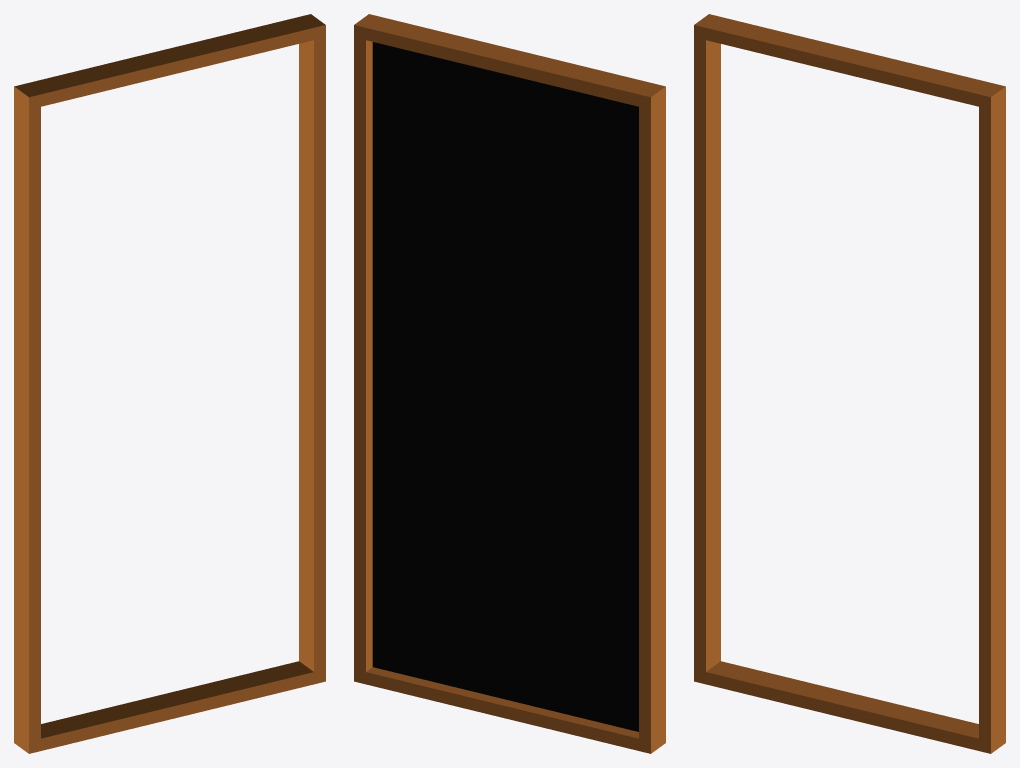
Rendered from Window 5.fbx.
3 views of the same model, side by side, from view 1: azimuth 30°, elevation 25°; view 2: azimuth 150°, elevation 25°; view 3: azimuth 330°, elevation 25° (orthographic).
Parts seen in each view (by area): view 1: Node 0; view 2: Node 0; view 3: Node 0.
Part boxes in pixels (box(x1,y1,x2,y2)): Node 0: box(14, 14, 325, 753); Node 0: box(354, 14, 665, 753); Node 0: box(694, 14, 1005, 753).
Size of the model in its own units: 0.0855 by 2.08 by 0.9827.
